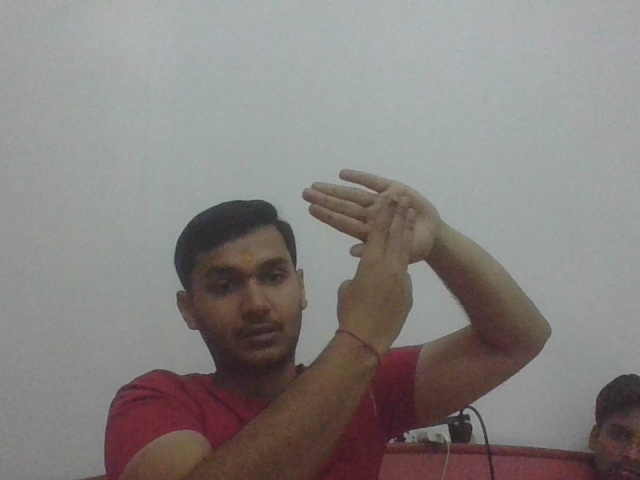M: (307, 160, 442, 314)
